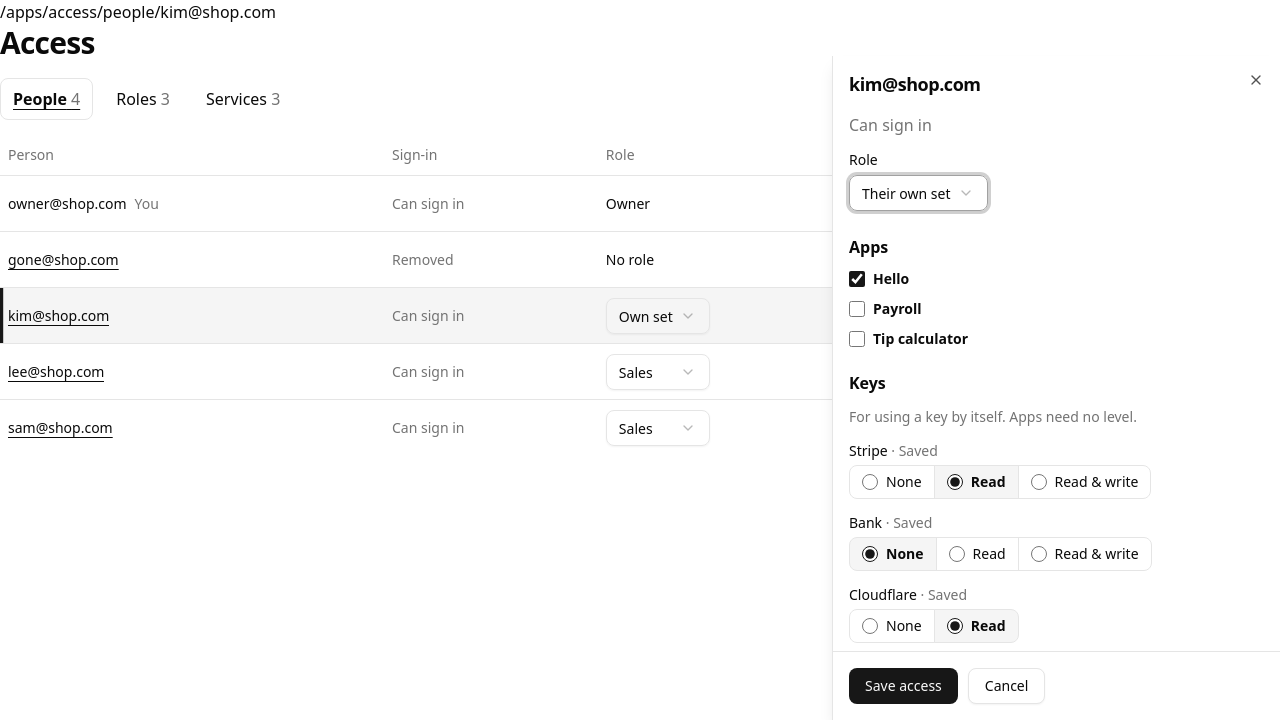
Test: with their own set, the panel has two groups, a tick for every app and then a level for every key, and neither moves the other
Expected: the dropdown labelled "Role" shows "Their own set", [849,175,988,211]
Expected: the text "Not saved yet" is not shown
Click the checkbox labelled "Payroll" at (857, 309), box [849,301,865,317]
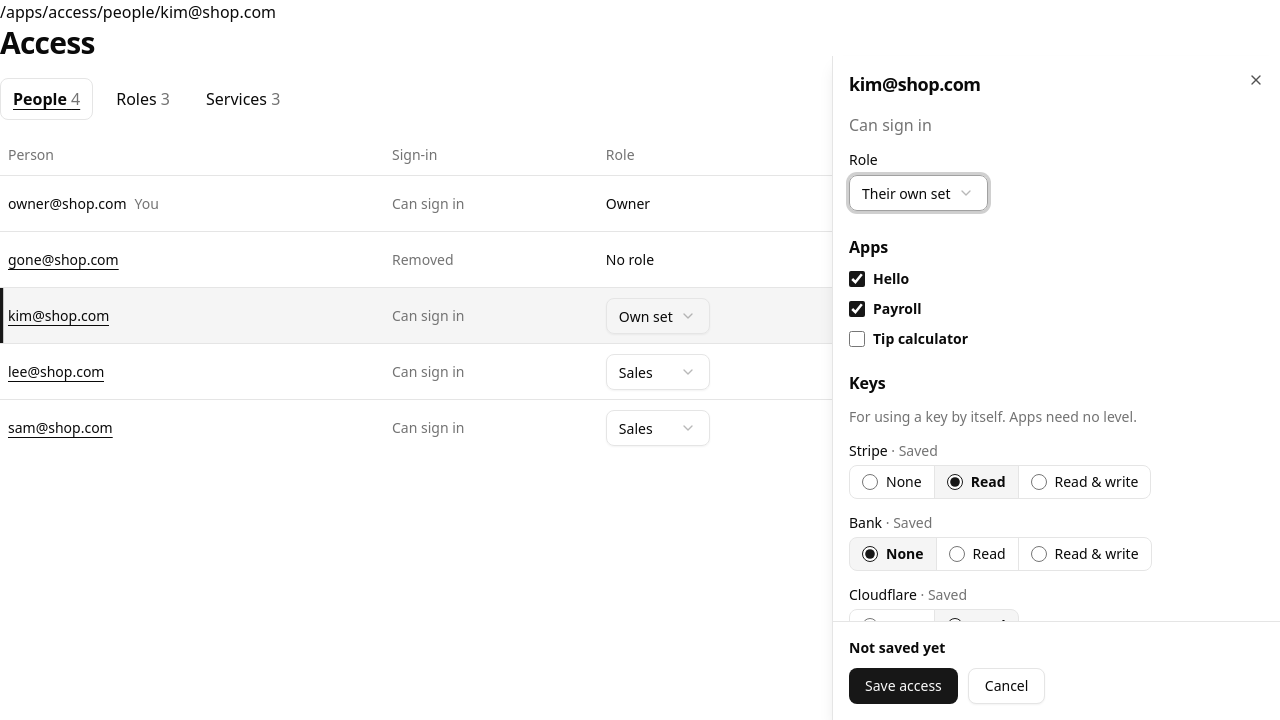
Expected: the text "Not saved yet" is shown, [849,638,945,657]
Click the checkbox labelled "Hello" at (857, 279), box [849,271,865,287]
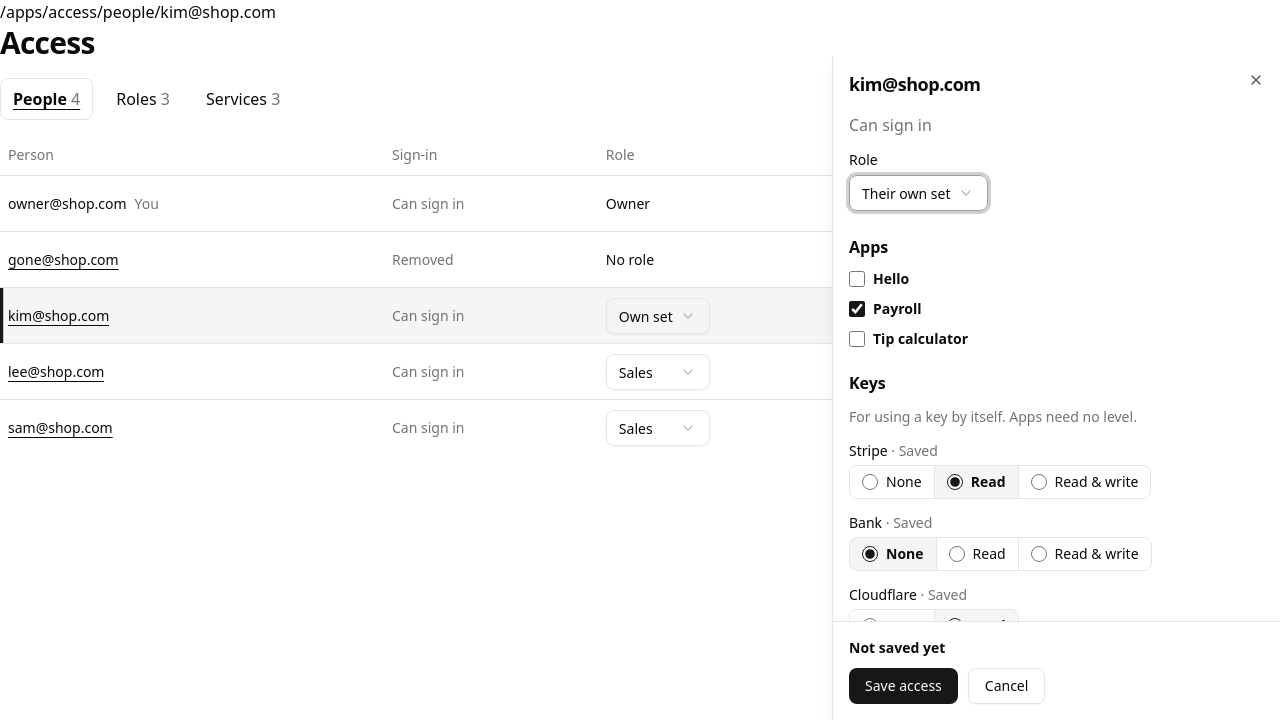
Click the radio button labelled "Read & write" below "Bank" at (1039, 554), box [1031,546,1047,562]
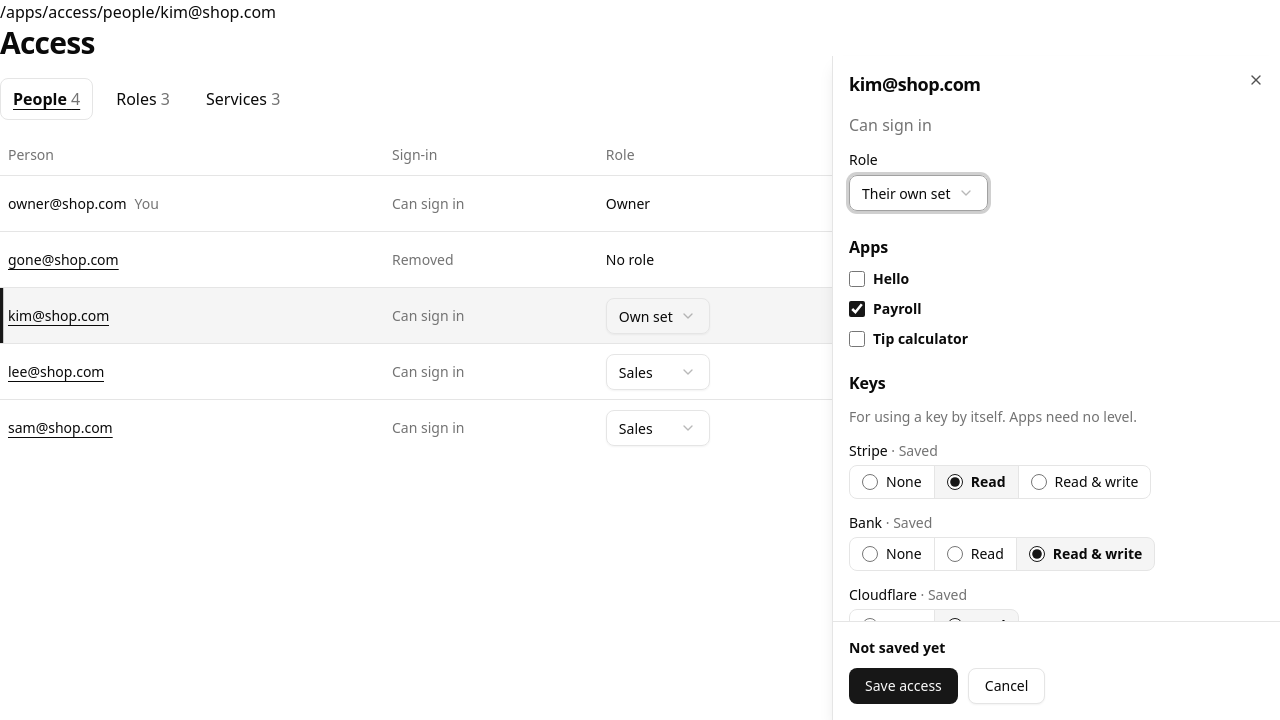
Click the radio button labelled "None" below "Stripe" at (870, 482), box [862,474,878,490]
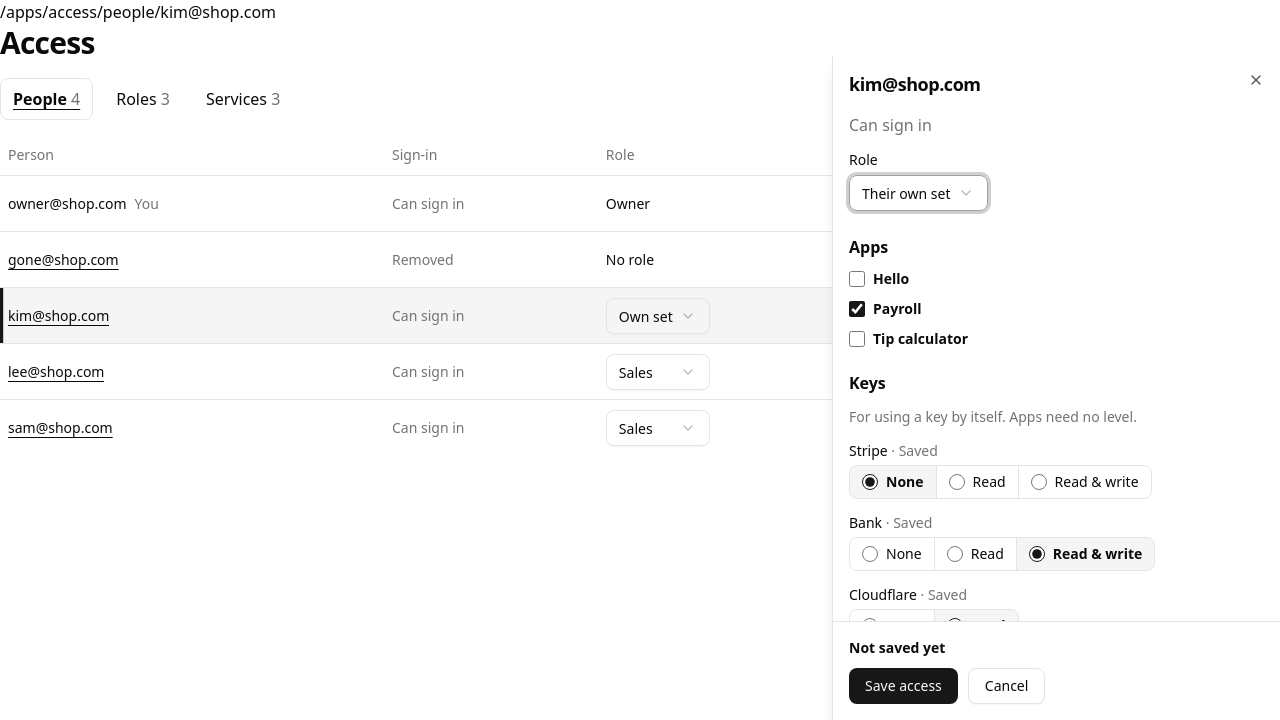
Click the button "Save access" at (903, 686), box [849,668,958,704]
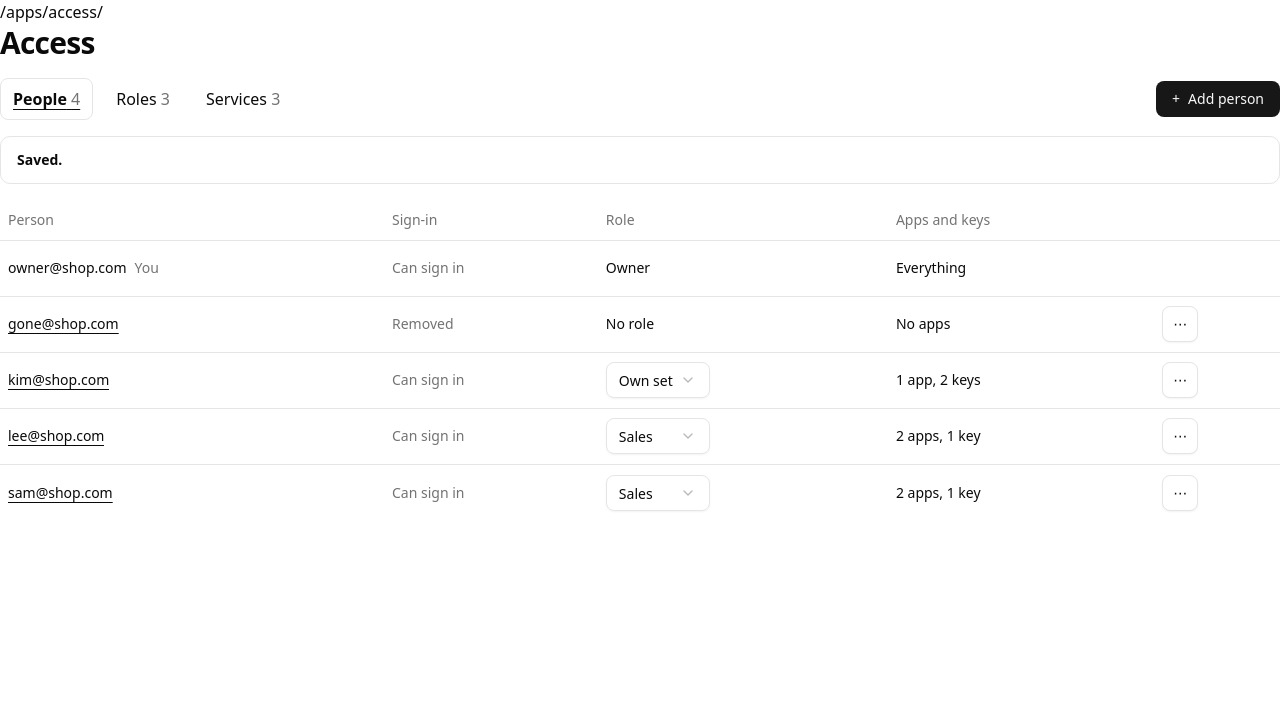
Expected: the text "Saved." is shown, [17,150,62,168]
